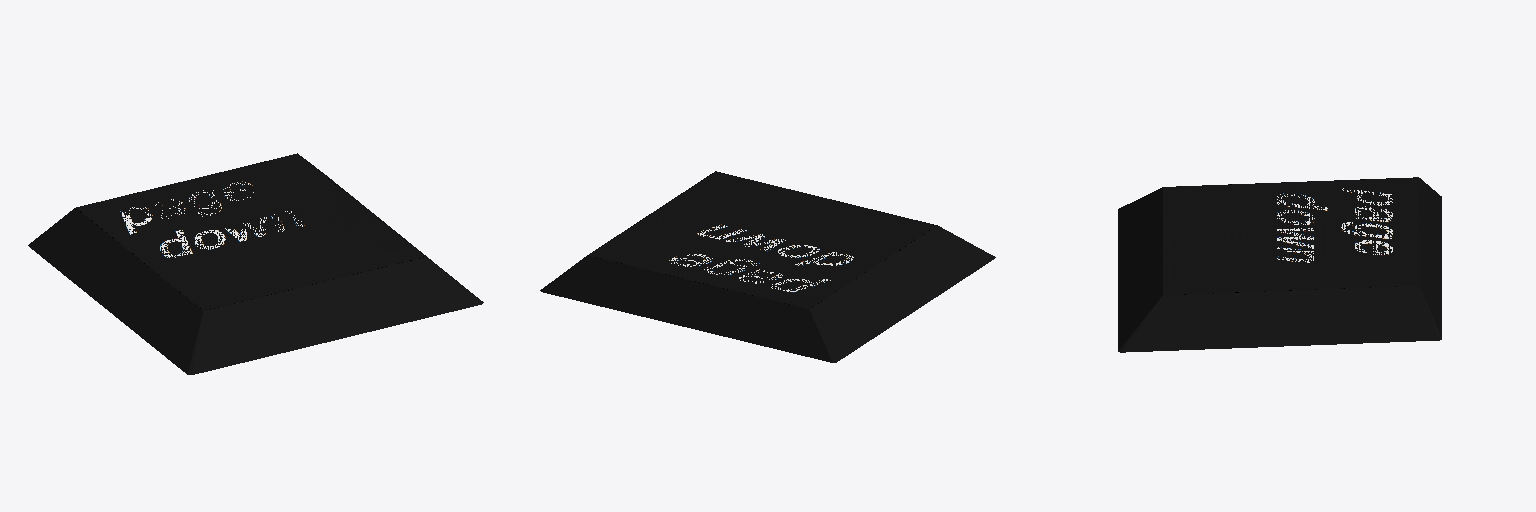
3 renders of one model, left to right at view 1: azimuth 30°, elevation 25°; view 2: azimuth 150°, elevation 25°; view 3: azimuth 270°, elevation 25°, orthographic.
Visible parts, largest first — view 1: Group86/mesh80/mesh80-geometry#mesh80-geometry; view 2: Group86/mesh80/mesh80-geometry#mesh80-geometry; view 3: Group86/mesh80/mesh80-geometry#mesh80-geometry.
Boxes of the visible parts, x1,y1,x2,y2 form: Group86/mesh80/mesh80-geometry#mesh80-geometry: [28, 153, 483, 374]; Group86/mesh80/mesh80-geometry#mesh80-geometry: [540, 171, 995, 362]; Group86/mesh80/mesh80-geometry#mesh80-geometry: [1118, 177, 1441, 352].
Size of the model in its own units: 0.0754 by 0.0119 by 0.0715.
Materials: 2 (1 with a texture image).